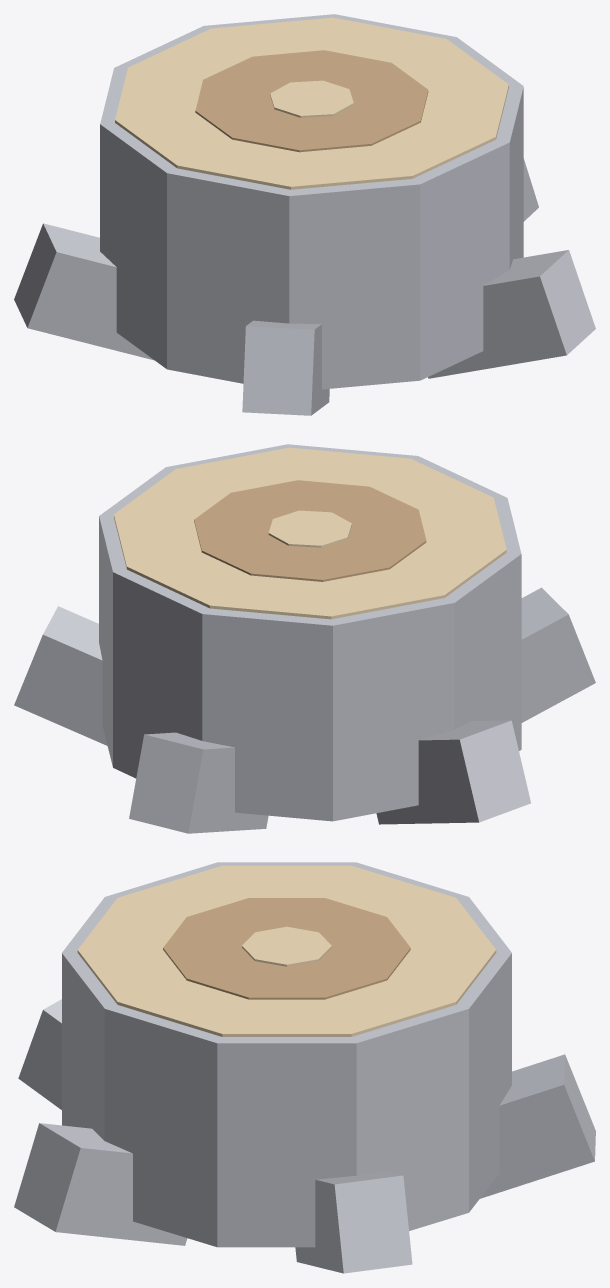
The model's file is Stump_Moon.fbx.
3 renders of one model, top to bottom at view 1: azimuth 30°, elevation 25°; view 2: azimuth 150°, elevation 25°; view 3: azimuth 270°, elevation 25°, orthographic. The views are drawn at different scales.
Visible parts, largest first — view 1: Stump_Moon_Mesh; view 2: Stump_Moon_Mesh; view 3: Stump_Moon_Mesh.
Boxes of the visible parts, left/top/right/bottom form: Stump_Moon_Mesh: left=14, top=14, right=595, bottom=415; Stump_Moon_Mesh: left=14, top=444, right=595, bottom=833; Stump_Moon_Mesh: left=14, top=862, right=595, bottom=1273.
Size of the model in its own units: 2.71 by 1.23 by 2.59.
